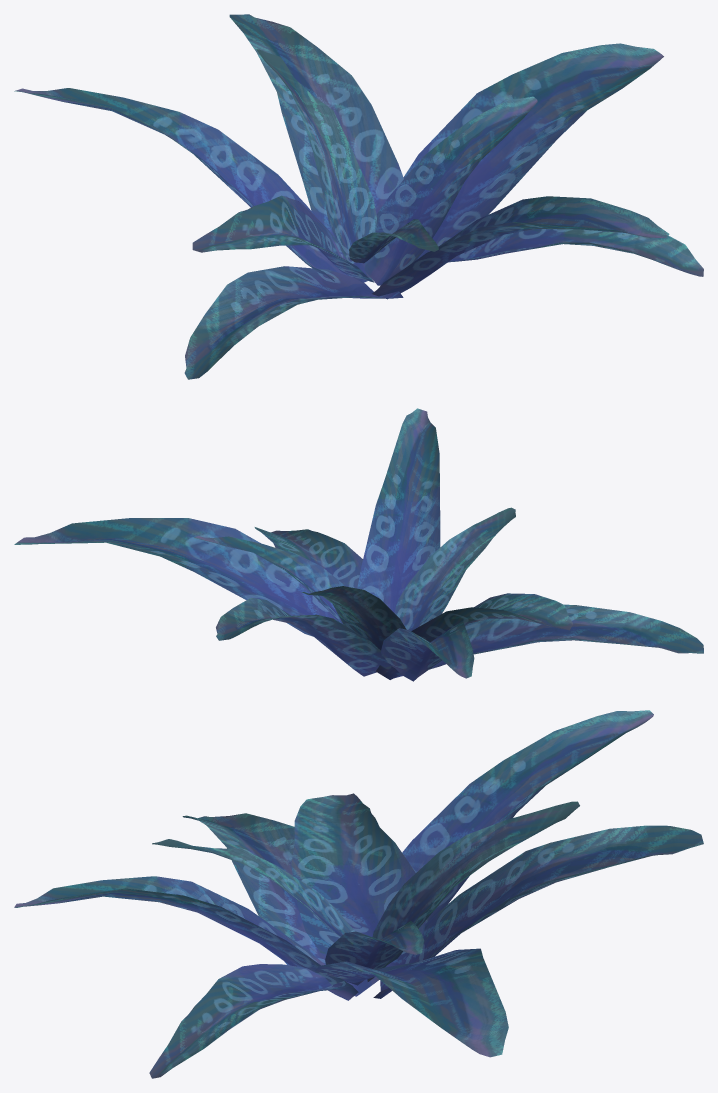
The model's file is touffe_bleu3.fbx.
3 renders of one model, top to bottom at view 1: azimuth 30°, elevation 25°; view 2: azimuth 150°, elevation 25°; view 3: azimuth 270°, elevation 25°, orthographic. The views are drawn at different scales.
Parts seen in each view (by area): view 1: Plane.058, Plane.062, Plane.061, Plane.059, Plane.065, Plane.060, Plane.064, Plane.063, Plane.066, Plane.067; view 2: Plane.058, Plane.060, Plane.059, Plane.067, Plane.062, Plane.063, Plane.065, Plane.066, Plane.064, Plane.061; view 3: Plane.063, Plane.062, Plane.065, Plane.058, Plane.066, Plane.060, Plane.064, Plane.059, Plane.067, Plane.061.
Part boxes in pixels (<box>): Plane.058: <box>403,43,663,259</box>; Plane.062: <box>229,14,403,254</box>; Plane.061: <box>364,96,537,285</box>; Plane.059: <box>184,266,403,379</box>; Plane.065: <box>14,88,347,281</box>; Plane.060: <box>372,196,669,299</box>; Plane.064: <box>256,49,376,282</box>; Plane.063: <box>192,195,374,282</box>; Plane.066: <box>448,229,703,276</box>; Plane.067: <box>349,219,438,263</box>; Plane.058: <box>14,518,337,636</box>; Plane.060: <box>357,408,440,612</box>; Plane.059: <box>394,604,703,678</box>; Plane.067: <box>394,507,515,630</box>; Plane.062: <box>216,597,392,676</box>; Plane.063: <box>376,593,573,679</box>; Plane.065: <box>381,620,474,681</box>; Plane.066: <box>254,527,362,588</box>; Plane.064: <box>301,586,406,650</box>; Plane.061: <box>193,536,345,623</box>; Plane.063: <box>291,793,425,954</box>; Plane.062: <box>373,825,703,998</box>; Plane.065: <box>402,710,653,929</box>; Plane.058: <box>315,948,508,1057</box>; Plane.066: <box>149,964,347,1078</box>; Plane.060: <box>14,876,358,1000</box>; Plane.064: <box>367,801,579,981</box>; Plane.059: <box>182,813,379,996</box>; Plane.067: <box>152,839,354,936</box>; Plane.061: <box>325,921,424,985</box>.
Size of the model in its own units: 311 by 85.74 by 286.
1 material, 1 textured.
